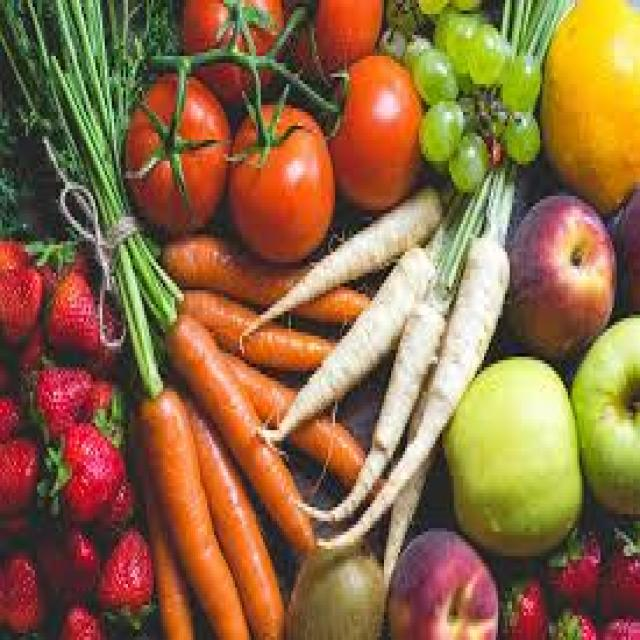organic waste: (0, 0, 161, 395), (312, 234, 507, 546), (163, 308, 312, 552), (254, 238, 431, 437), (286, 297, 442, 521), (238, 175, 442, 346), (56, 70, 174, 329), (133, 384, 249, 636), (440, 353, 582, 556), (219, 346, 391, 504), (182, 384, 279, 636), (535, 0, 638, 203), (163, 231, 368, 322), (223, 95, 333, 262), (508, 189, 614, 353), (124, 70, 230, 231), (323, 52, 419, 203), (177, 283, 337, 371), (570, 311, 638, 514), (388, 521, 496, 637), (382, 364, 433, 605), (282, 535, 384, 637), (179, 0, 281, 94), (140, 468, 193, 636), (38, 420, 124, 521), (282, 0, 382, 77), (431, 168, 486, 294), (93, 525, 156, 626), (32, 518, 98, 605), (121, 217, 182, 301), (28, 364, 95, 434), (540, 525, 598, 605), (0, 234, 42, 340), (498, 0, 573, 56), (605, 182, 638, 308), (42, 270, 95, 346), (0, 546, 44, 636), (600, 514, 638, 616), (498, 566, 547, 636), (74, 297, 119, 371), (0, 325, 44, 395), (0, 430, 33, 518), (444, 126, 488, 189), (417, 98, 463, 157), (410, 42, 456, 101), (14, 322, 49, 392), (482, 161, 512, 241), (86, 374, 123, 434), (498, 105, 538, 157), (498, 49, 535, 105), (468, 24, 505, 80), (47, 598, 100, 637), (93, 472, 133, 521), (547, 602, 596, 636), (447, 14, 475, 70), (432, 0, 458, 45), (596, 612, 638, 637), (0, 388, 19, 437), (35, 259, 58, 297), (63, 248, 86, 280), (402, 35, 423, 63), (414, 0, 447, 14), (447, 0, 479, 14)
